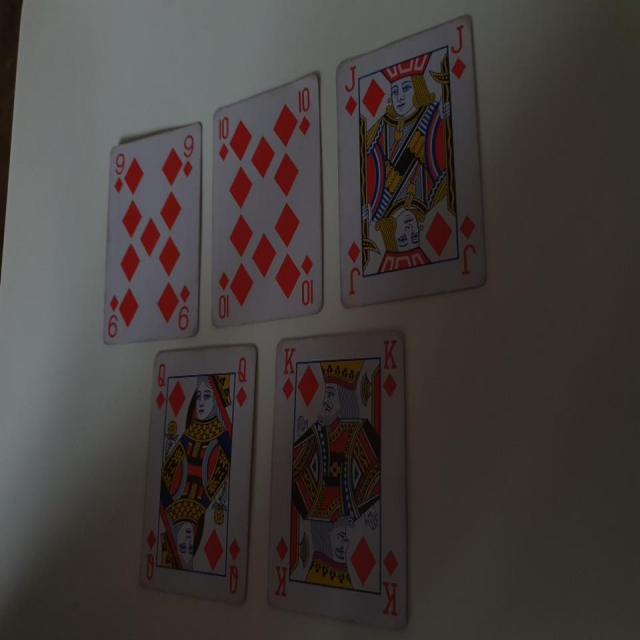10 Diamonds: (211, 70, 330, 329)
9 Diamonds: (98, 118, 203, 345)
J Diamonds: (334, 10, 491, 309)
K Diamonds: (265, 329, 412, 632)
Q Diamonds: (136, 344, 259, 608)
